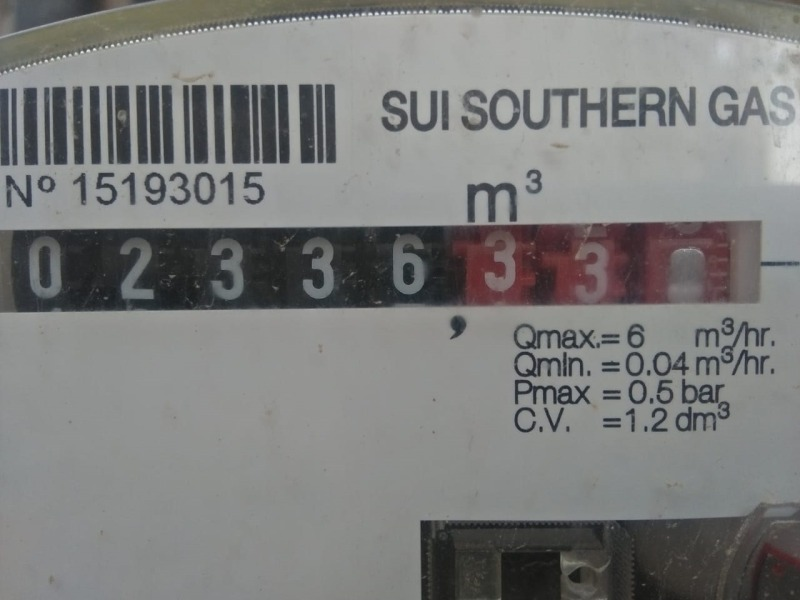ssgc: (6, 225, 763, 306)
